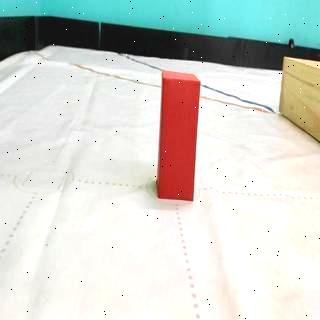redbox: (157, 67, 201, 203)
